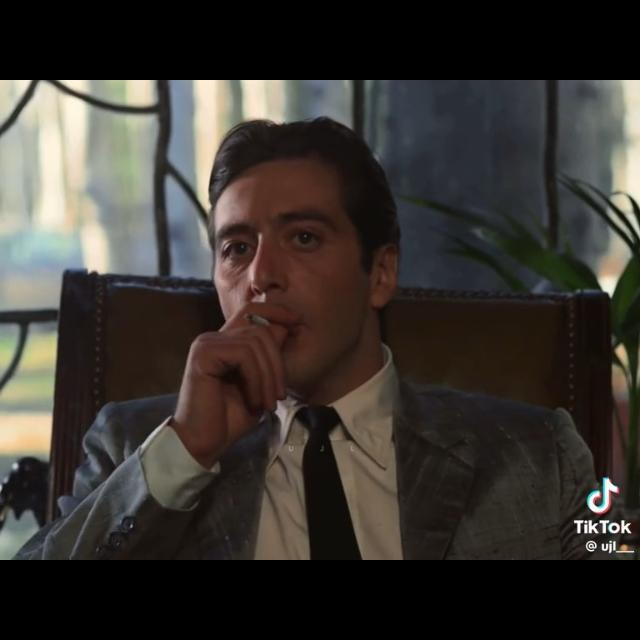rokok: (239, 300, 277, 338)
